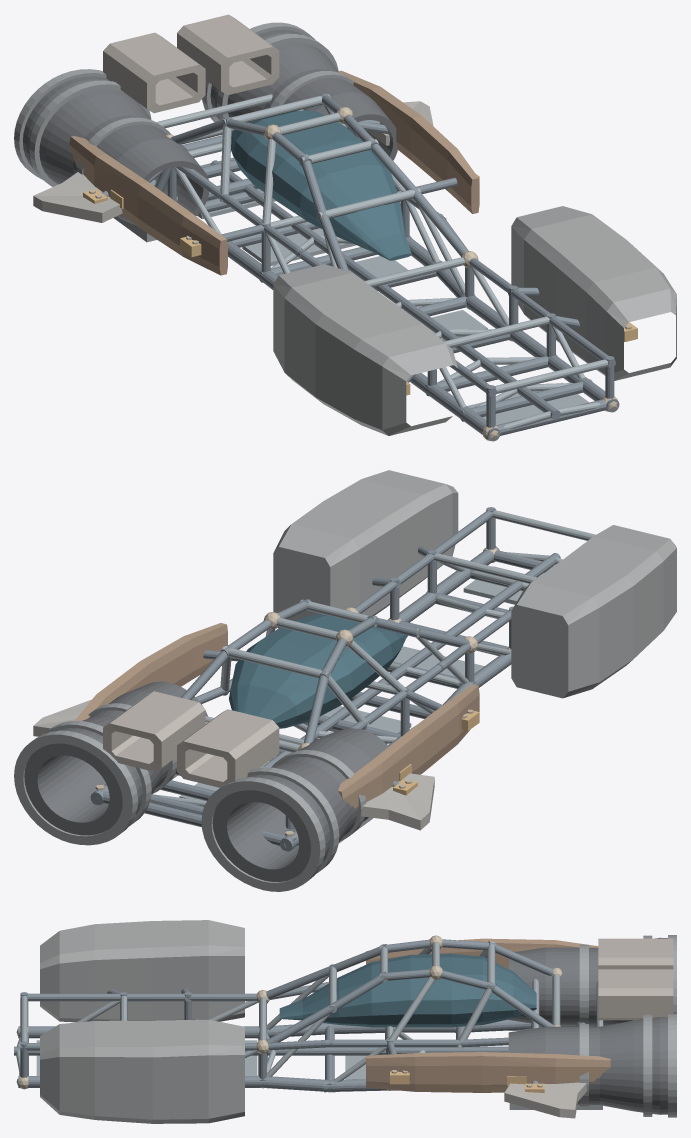
File: FORGE_V18_01_Frame_With_Modules.glb
The picture shows the model from 3 angles, top to bottom: view 1: azimuth 30°, elevation 25°; view 2: azimuth 150°, elevation 25°; view 3: azimuth 270°, elevation 25°; orthographic projection. The views are drawn at different scales.
Parts seen in each view (by area): view 1: V16_PORT_PhysicalIntakeOuterHousing, V16_STBD_PhysicalIntakeOuterHousing, V15_200_ReferenceAlignedOnePieceGreenhouse, THRUST_PORT_HollowMainNozzle, V15_300_PORT_FormedBronzeFuselageArmor, THRUST_PORT_UpperTwinExhaustHousing, THRUST_STBD_UpperTwinExhaustHousing, THRUST_STBD_HollowMainNozzle, V15_300_STBD_FormedBronzeFuselageArmor, V15_320_PORT_IntegratedSweptRearSideWing, THRUST_PORT_MetalRetainingRing_01, THRUST_PORT_MetalRetainingRing_02 (+23 smaller); view 2: V16_PORT_PhysicalIntakeOuterHousing, V16_STBD_PhysicalIntakeOuterHousing, THRUST_PORT_HollowMainNozzle, V15_200_ReferenceAlignedOnePieceGreenhouse, THRUST_STBD_HollowMainNozzle, THRUST_PORT_UpperTwinExhaustHousing, V15_300_PORT_FormedBronzeFuselageArmor, THRUST_STBD_UpperTwinExhaustHousing, V15_300_STBD_FormedBronzeFuselageArmor, THRUST_PORT_MetalRetainingRing_02, THRUST_STBD_MetalRetainingRing_02, V15_320_PORT_IntegratedSweptRearSideWing (+14 smaller); view 3: V16_STBD_PhysicalIntakeOuterHousing, V16_PORT_PhysicalIntakeOuterHousing, V15_200_ReferenceAlignedOnePieceGreenhouse, V15_300_STBD_FormedBronzeFuselageArmor, THRUST_STBD_HollowMainNozzle, THRUST_PORT_HollowMainNozzle, THRUST_STBD_UpperTwinExhaustHousing, THRUST_PORT_UpperTwinExhaustHousing, V15_320_STBD_IntegratedSweptRearSideWing, V15_300_PORT_FormedBronzeFuselageArmor, THRUST_STBD_MetalRetainingRing_01, THRUST_STBD_MetalRetainingRing_02 (+42 smaller).
Boxes of the visible parts, x1,y1,x2,y2 form: V16_PORT_PhysicalIntakeOuterHousing: (273, 264, 457, 435); V16_STBD_PhysicalIntakeOuterHousing: (511, 206, 676, 380); V15_200_ReferenceAlignedOnePieceGreenhouse: (231, 110, 411, 260); THRUST_PORT_HollowMainNozzle: (22, 76, 209, 224); V15_300_PORT_FormedBronzeFuselageArmor: (69, 136, 227, 275); THRUST_PORT_UpperTwinExhaustHousing: (103, 32, 205, 113); THRUST_STBD_UpperTwinExhaustHousing: (177, 14, 279, 95); THRUST_STBD_HollowMainNozzle: (210, 29, 397, 160); V15_300_STBD_FormedBronzeFuselageArmor: (338, 70, 479, 213); V15_320_PORT_IntegratedSweptRearSideWing: (33, 172, 122, 222); THRUST_PORT_MetalRetainingRing_01: (29, 80, 151, 186); THRUST_PORT_MetalRetainingRing_02: (14, 69, 106, 179); V16_PORT_PhysicalIntakeOuterHousing: (511, 525, 676, 698); V16_STBD_PhysicalIntakeOuterHousing: (273, 470, 458, 628); THRUST_PORT_HollowMainNozzle: (212, 728, 388, 881); V15_200_ReferenceAlignedOnePieceGreenhouse: (229, 614, 408, 728); THRUST_STBD_HollowMainNozzle: (24, 681, 207, 835); THRUST_PORT_UpperTwinExhaustHousing: (177, 709, 279, 787); V15_300_PORT_FormedBronzeFuselageArmor: (338, 684, 479, 808); THRUST_STBD_UpperTwinExhaustHousing: (103, 691, 205, 771); V15_300_STBD_FormedBronzeFuselageArmor: (75, 623, 227, 720); THRUST_PORT_MetalRetainingRing_02: (201, 777, 325, 891); THRUST_STBD_MetalRetainingRing_02: (14, 730, 137, 845); V15_320_PORT_IntegratedSweptRearSideWing: (362, 773, 434, 830); V16_STBD_PhysicalIntakeOuterHousing: (40, 1019, 244, 1123); V16_PORT_PhysicalIntakeOuterHousing: (40, 920, 244, 1022); V15_200_ReferenceAlignedOnePieceGreenhouse: (279, 953, 536, 1027); V15_300_STBD_FormedBronzeFuselageArmor: (366, 1052, 610, 1092); THRUST_STBD_HollowMainNozzle: (508, 1017, 667, 1114); THRUST_PORT_HollowMainNozzle: (508, 937, 667, 1025); THRUST_STBD_UpperTwinExhaustHousing: (598, 969, 673, 1020); THRUST_PORT_UpperTwinExhaustHousing: (598, 938, 673, 969); V15_320_STBD_IntegratedSweptRearSideWing: (504, 1082, 586, 1118); V15_300_PORT_FormedBronzeFuselageArmor: (366, 938, 598, 968); THRUST_STBD_MetalRetainingRing_01: (643, 1014, 652, 1116); THRUST_STBD_MetalRetainingRing_02: (668, 1014, 676, 1117).
Size of the model in its own units: 4.62 by 1.62 by 8.05.
